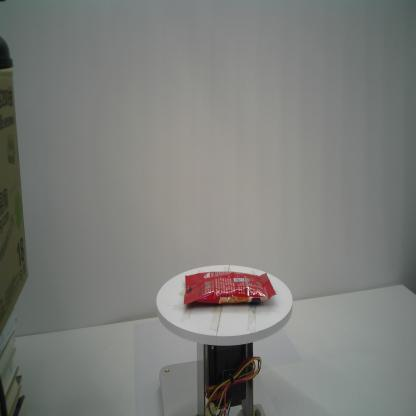Instant Drink: (181, 266, 280, 308)
